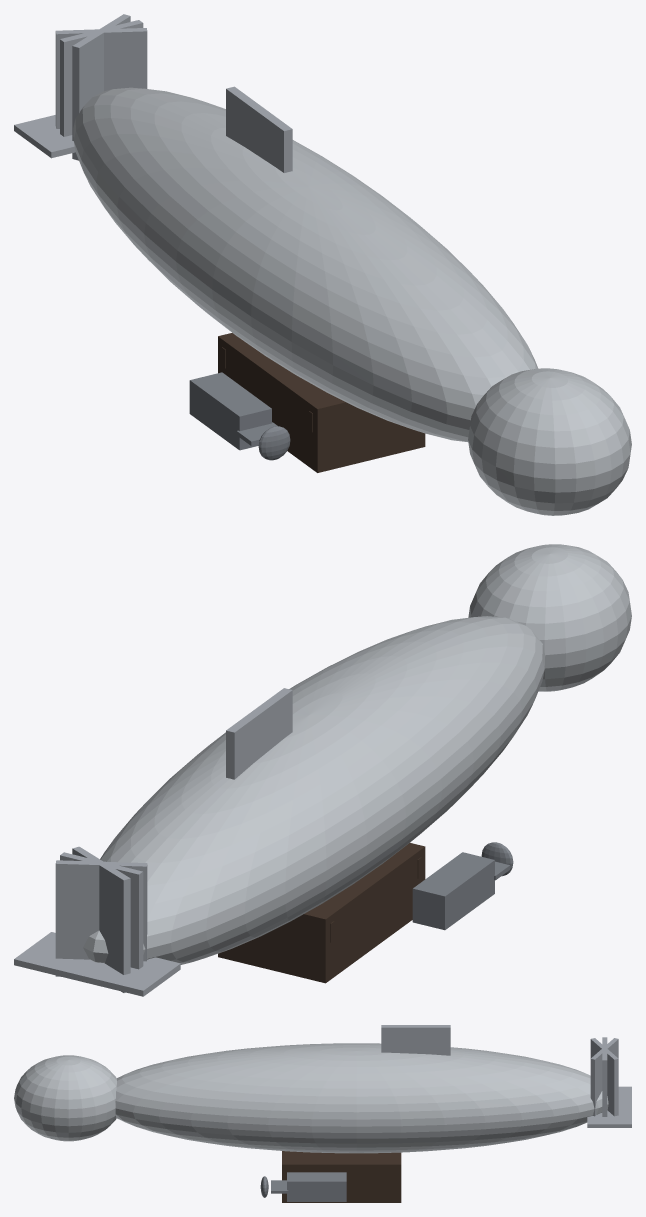
Rendered from SpiritBlimp.obj.
3 renders of one model, top to bottom at view 1: azimuth 30°, elevation 25°; view 2: azimuth 150°, elevation 25°; view 3: azimuth 270°, elevation 25°, orthographic. The views are drawn at different scales.
Visible parts, largest first — view 1: hull, fin, gondola, detail; view 2: hull, fin, gondola, detail; view 3: hull, fin, gondola, detail.
Boxes of the visible parts, box(x1,y1,x2,y2) form: hull: box(73, 87, 631, 515); fin: box(14, 14, 292, 172); gondola: box(218, 333, 425, 472); detail: box(189, 372, 290, 460); hull: box(83, 544, 631, 964); fin: box(14, 688, 292, 996); gondola: box(218, 843, 425, 983); detail: box(412, 842, 513, 930); hull: box(14, 1043, 608, 1153); fin: box(381, 1025, 631, 1127); gondola: box(282, 1151, 401, 1202); detail: box(260, 1172, 346, 1201).
Size of the model in its own units: 3.6 by 3.58 by 12.45.
